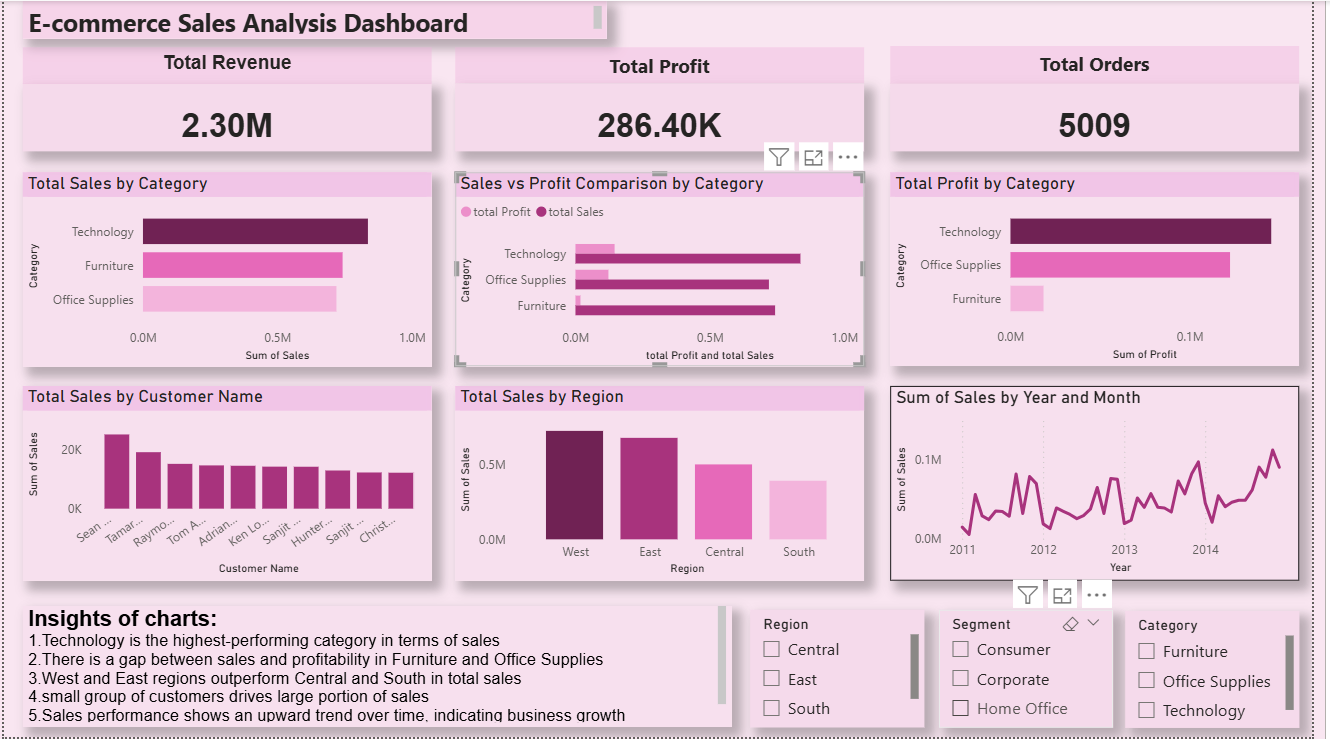

What the dashboard file says about the page in this screenshot:
{"tool":"powerbi","page":{"name":"Page 1","canvas":[1280,720],"ordinal":0},"visuals":[{"type":"barChart","title":"Total Sales by Category","fields":{"Category":["Superstore.Category"],"Y":["Sum(Superstore.Sales)"]},"box":[18.3,167.5,400,190],"z":0},{"type":"columnChart","title":"Total Sales by Region","fields":{"Category":["Superstore.Region"],"Y":["Sum(Superstore.Sales)"]},"box":[441.4,376.6,400,190],"z":1000},{"type":"barChart","title":"Total Profit by Category","fields":{"Y":["Sum(Superstore.Profit)"],"Category":["Superstore.Category"]},"box":[867,167.5,399.9,189.5],"z":2000},{"type":"clusteredColumnChart","title":"Total Sales by Customer Name","fields":{"Category":["Superstore.Customer Name"],"Y":["Sum(Superstore.Sales)"]},"box":[18.3,376.6,400,190],"z":3000},{"type":"textbox","box":[18.3,0,571.1,36.7],"z":4000},{"type":"clusteredBarChart","title":"Sales vs Profit Comparison by Category","fields":{"Y":["Sum(Superstore.Profit)","Sum(Superstore.Sales)"],"Category":["Superstore.Category"]},"box":[441.4,167.5,400,190],"z":5000},{"type":"textbox","box":[18.3,591.9,693.3,118.6],"z":6000},{"type":"card","fields":{"Values":["Sum(Superstore.Sales)"]},"box":[18.3,80.7,399.9,66],"z":7000},{"type":"card","fields":{"Values":["Sum(Superstore.Profit)"]},"box":[441.4,80.7,399.9,66],"z":8000},{"type":"slicer","fields":{"Values":["Superstore.Region"]},"box":[730,595.5,170,114.9],"z":9000},{"type":"lineChart","fields":{"Category":["Superstore.Order Date.Variation.Date Hierarchy.Year","Superstore.Order Date.Variation.Date Hierarchy.Month"],"Y":["Sum(Superstore.Sales)"]},"box":[867,377,400,190],"z":10000},{"type":"slicer","fields":{"Values":["Superstore.Segment"]},"box":[914.7,595.5,170,114.9],"z":11000},{"type":"slicer","fields":{"Values":["total_profit_by_category.Category"]},"box":[1096.9,596.7,170,114],"z":12000},{"type":"card","fields":{"Values":["Superstore.oreder-count"]},"box":[867,80.7,399.9,66],"z":13000},{"type":"textbox","box":[18.3,45.2,399.9,36],"z":14000},{"type":"textbox","box":[441.4,45.2,399.9,35.5],"z":15000},{"type":"textbox","box":[867,44,399.9,36.7],"z":16000}]}

Visuals, with their boxes in screenshot pixels (x1, y1, x2, y2), scaled from the page's 1280x720 canvas onto the 1330x739 screenshot:
"Total Sales by Category" barChart: left=19, top=172, right=435, bottom=367
"Total Sales by Region" columnChart: left=459, top=387, right=874, bottom=582
"Total Profit by Category" barChart: left=901, top=172, right=1316, bottom=366
"Total Sales by Customer Name" clusteredColumnChart: left=19, top=387, right=435, bottom=582
textbox: left=19, top=0, right=612, bottom=38
"Sales vs Profit Comparison by Category" clusteredBarChart: left=459, top=172, right=874, bottom=367
textbox: left=19, top=608, right=739, bottom=729
card - Sum(Superstore.Sales): left=19, top=83, right=435, bottom=151
card - Sum(Superstore.Profit): left=459, top=83, right=874, bottom=151
slicer - Superstore.Region: left=759, top=611, right=935, bottom=729
lineChart - Superstore.Order Date.Variation.Date Hierarchy.Year x Superstore.Order Date.Variation.Date Hierarchy.Month: left=901, top=387, right=1316, bottom=582
slicer - Superstore.Segment: left=950, top=611, right=1127, bottom=729
slicer - total_profit_by_category.Category: left=1140, top=612, right=1316, bottom=729
card - Superstore.oreder-count: left=901, top=83, right=1316, bottom=151
textbox: left=19, top=46, right=435, bottom=83
textbox: left=459, top=46, right=874, bottom=83
textbox: left=901, top=45, right=1316, bottom=83
